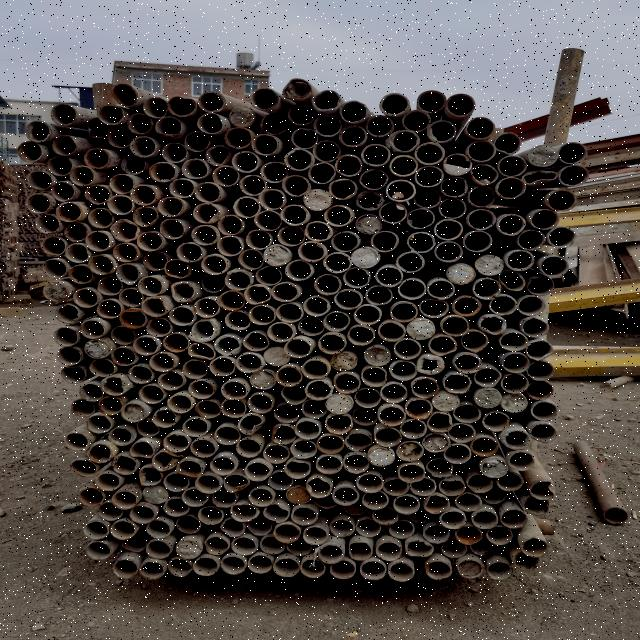pipe: (446, 94, 476, 118), (466, 116, 496, 140), (380, 92, 410, 116), (414, 142, 444, 166), (302, 188, 332, 212), (434, 240, 463, 264), (334, 154, 364, 177), (323, 204, 353, 227), (276, 224, 306, 247), (389, 154, 418, 177), (304, 379, 333, 402), (310, 89, 340, 111), (250, 88, 280, 110), (559, 165, 589, 187), (402, 110, 432, 132), (364, 115, 394, 137), (529, 208, 559, 230), (360, 144, 390, 166), (337, 126, 367, 148), (474, 254, 504, 276), (396, 251, 426, 273), (446, 263, 476, 285), (330, 230, 360, 252), (322, 252, 352, 274), (332, 288, 362, 310), (254, 264, 284, 286), (528, 144, 556, 167), (498, 213, 526, 236), (282, 174, 310, 197), (556, 143, 588, 163), (546, 190, 578, 210), (418, 298, 450, 318), (282, 78, 311, 100), (390, 130, 419, 152), (434, 218, 463, 240), (406, 231, 435, 253), (397, 278, 426, 300), (375, 266, 404, 288), (96, 104, 125, 126), (496, 177, 526, 198), (469, 163, 499, 184), (414, 166, 444, 187), (452, 296, 482, 317), (405, 319, 435, 340), (300, 358, 330, 379), (262, 345, 292, 366), (314, 140, 341, 163), (205, 144, 232, 167), (190, 319, 217, 342), (494, 132, 522, 154), (467, 140, 495, 162), (444, 154, 472, 176), (468, 186, 496, 208), (313, 115, 341, 137), (386, 179, 414, 201), (406, 208, 434, 230), (473, 278, 501, 300), (521, 316, 549, 338), (396, 440, 424, 462), (286, 148, 314, 170), (378, 202, 406, 224), (232, 150, 260, 172), (238, 174, 266, 196), (232, 196, 260, 218), (370, 230, 398, 252), (352, 246, 380, 268), (254, 209, 282, 231), (342, 267, 370, 289), (245, 228, 273, 250), (263, 244, 291, 266), (314, 274, 342, 296), (215, 235, 243, 257), (360, 366, 388, 388), (106, 127, 134, 149), (156, 196, 184, 218), (107, 194, 135, 216), (110, 220, 138, 242), (463, 231, 492, 252), (250, 134, 279, 155), (502, 352, 532, 372), (296, 241, 326, 261), (328, 352, 358, 372), (156, 370, 186, 390), (308, 162, 334, 185), (341, 100, 368, 122), (461, 331, 488, 353), (348, 324, 375, 346), (217, 290, 244, 312), (428, 120, 456, 141), (288, 104, 316, 125), (489, 294, 517, 315), (393, 338, 421, 359), (404, 398, 432, 419), (328, 178, 356, 199), (212, 165, 240, 186), (380, 383, 408, 404), (267, 322, 295, 343), (274, 366, 302, 387), (439, 176, 468, 196), (359, 170, 388, 190), (530, 401, 559, 421), (473, 388, 502, 408), (432, 392, 461, 412), (418, 90, 444, 112), (549, 226, 575, 248), (498, 270, 524, 292), (479, 314, 505, 336), (286, 259, 312, 281), (238, 248, 264, 270), (306, 476, 332, 498), (25, 120, 51, 142), (51, 134, 77, 156), (126, 113, 152, 135), (130, 136, 156, 158), (162, 142, 188, 164), (159, 218, 185, 240), (501, 373, 528, 394), (355, 214, 382, 235), (303, 295, 330, 316), (498, 156, 526, 176), (468, 209, 496, 229), (260, 114, 288, 134), (414, 188, 442, 208), (540, 256, 568, 276), (389, 302, 417, 322), (428, 336, 456, 356), (526, 340, 554, 360), (411, 378, 439, 398), (443, 374, 471, 394), (473, 368, 501, 388), (526, 380, 554, 400), (500, 392, 528, 412), (530, 423, 558, 443), (482, 412, 510, 432), (502, 430, 530, 450), (453, 404, 481, 424), (470, 437, 498, 457), (479, 458, 507, 478), (443, 444, 471, 464), (422, 432, 450, 452), (466, 474, 494, 494), (260, 162, 288, 182), (258, 190, 286, 210), (282, 205, 310, 225), (304, 222, 332, 242), (193, 204, 221, 224), (354, 304, 382, 324), (270, 282, 298, 302), (243, 284, 271, 304), (192, 298, 220, 318), (247, 305, 275, 325), (276, 303, 304, 323), (284, 338, 312, 358), (332, 373, 360, 393), (214, 336, 242, 356), (248, 370, 276, 390), (374, 427, 402, 447), (325, 394, 353, 414), (220, 380, 248, 400), (246, 394, 274, 414), (280, 385, 308, 405), (344, 432, 372, 452), (220, 398, 248, 418), (315, 455, 343, 475), (262, 444, 290, 464), (210, 456, 238, 476), (244, 462, 272, 482), (194, 474, 222, 494), (196, 506, 224, 526), (168, 96, 196, 116), (148, 162, 176, 182), (83, 184, 111, 204), (54, 202, 82, 222), (84, 339, 112, 359), (88, 358, 116, 378), (187, 380, 215, 400), (190, 438, 218, 458), (111, 454, 139, 474), (180, 488, 208, 508), (144, 519, 172, 539), (142, 96, 167, 118), (508, 250, 534, 271), (228, 106, 254, 127), (196, 113, 222, 134), (378, 321, 404, 342), (192, 225, 218, 246), (318, 333, 344, 354), (343, 452, 369, 473), (111, 84, 137, 105), (50, 104, 76, 125), (16, 141, 42, 162), (132, 206, 158, 227), (291, 128, 318, 148), (439, 198, 466, 218), (441, 316, 468, 336), (390, 360, 417, 380), (425, 560, 452, 580), (198, 92, 225, 112), (224, 128, 251, 148), (193, 182, 220, 202), (235, 353, 262, 373), (301, 398, 328, 418), (325, 414, 352, 434), (332, 486, 359, 506), (273, 524, 300, 544), (155, 116, 182, 136), (83, 148, 110, 168), (86, 208, 113, 228), (88, 255, 115, 275), (67, 264, 94, 284), (168, 306, 195, 326), (162, 332, 189, 352), (111, 346, 138, 366), (163, 472, 190, 492), (163, 498, 190, 518), (397, 463, 425, 482), (480, 486, 508, 505), (408, 477, 436, 496), (392, 495, 420, 514), (438, 511, 466, 530), (96, 276, 124, 295), (82, 521, 110, 540), (86, 116, 110, 138), (427, 412, 452, 433), (153, 452, 182, 470), (519, 230, 545, 250), (528, 276, 554, 296), (518, 296, 544, 316), (428, 280, 454, 300), (527, 360, 553, 380), (400, 419, 426, 439), (448, 423, 474, 443), (508, 451, 534, 471), (456, 492, 482, 512), (522, 538, 548, 558), (514, 552, 540, 572), (366, 285, 392, 305), (218, 215, 244, 235), (202, 254, 228, 274), (224, 270, 250, 290), (298, 316, 324, 336), (208, 356, 234, 376), (355, 388, 381, 408), (368, 447, 394, 467), (352, 406, 378, 426), (274, 404, 300, 424), (295, 420, 321, 440), (214, 426, 240, 446), (285, 460, 311, 480), (357, 473, 383, 493), (362, 490, 388, 510), (360, 560, 386, 580), (262, 504, 288, 524), (318, 544, 344, 564), (302, 526, 328, 546), (274, 558, 300, 578), (220, 518, 246, 538), (220, 556, 246, 576), (192, 556, 218, 576), (184, 132, 210, 152), (182, 159, 208, 179), (46, 156, 72, 176), (108, 174, 134, 194), (130, 185, 156, 205), (84, 231, 110, 251), (136, 231, 162, 251), (176, 242, 202, 262), (112, 242, 138, 262), (64, 242, 90, 262), (42, 258, 68, 278), (42, 281, 68, 301), (72, 288, 98, 308), (54, 304, 80, 324), (137, 276, 163, 296), (96, 299, 122, 319), (120, 309, 146, 329), (149, 352, 175, 372), (182, 359, 208, 379), (138, 384, 164, 404), (86, 414, 112, 434), (109, 427, 135, 447), (86, 443, 112, 463), (163, 432, 189, 452), (130, 504, 156, 524), (110, 520, 136, 540), (223, 473, 250, 492), (175, 540, 202, 559), (500, 334, 528, 352), (522, 497, 550, 515), (362, 346, 390, 364), (238, 414, 262, 435), (272, 424, 296, 445), (312, 491, 340, 509), (230, 504, 258, 522), (497, 472, 522, 492), (427, 458, 452, 478), (407, 504, 432, 524), (388, 520, 413, 540), (358, 190, 383, 210), (324, 312, 349, 332), (380, 406, 405, 426), (331, 560, 356, 580), (248, 554, 273, 574), (121, 154, 146, 174), (27, 170, 52, 190), (70, 166, 95, 186), (26, 193, 51, 213), (164, 259, 189, 279), (143, 251, 168, 271), (133, 336, 158, 356), (138, 466, 163, 486), (501, 509, 527, 528), (423, 495, 449, 514), (442, 539, 468, 558), (376, 541, 402, 560), (225, 312, 251, 331), (242, 332, 268, 351), (142, 485, 168, 504), (98, 502, 124, 521), (454, 354, 481, 372), (486, 526, 513, 544), (200, 274, 227, 292), (145, 318, 172, 336), (188, 342, 215, 360), (78, 320, 105, 338), (470, 536, 494, 556), (390, 562, 414, 582), (348, 541, 372, 561), (212, 488, 236, 508), (260, 535, 284, 555), (248, 516, 272, 536), (51, 182, 75, 202), (36, 214, 60, 234), (64, 222, 88, 242), (116, 264, 140, 284), (170, 282, 194, 302), (142, 297, 166, 317), (54, 328, 78, 348), (168, 394, 192, 414), (168, 558, 192, 578), (522, 170, 556, 184), (268, 472, 293, 491), (121, 403, 146, 422), (112, 490, 137, 509), (382, 478, 408, 496), (456, 526, 482, 544), (236, 439, 262, 457), (372, 508, 398, 526), (286, 486, 312, 504), (290, 508, 316, 526), (286, 537, 312, 555), (300, 560, 326, 578), (232, 538, 258, 556), (128, 366, 154, 384), (182, 418, 208, 436), (64, 432, 90, 450), (78, 488, 104, 506), (176, 460, 202, 478), (145, 540, 171, 558), (112, 560, 138, 578), (121, 534, 147, 552), (602, 507, 628, 525), (102, 376, 125, 396), (290, 441, 317, 458), (530, 481, 554, 500), (42, 237, 66, 256), (119, 288, 143, 307), (111, 326, 135, 345), (424, 526, 449, 544), (487, 562, 512, 580), (457, 560, 482, 578), (98, 398, 123, 416), (406, 541, 434, 557), (194, 401, 220, 418), (70, 459, 96, 476), (473, 512, 497, 530), (318, 435, 342, 453), (356, 519, 380, 537), (249, 488, 273, 506), (330, 519, 354, 537), (204, 537, 228, 555), (58, 347, 82, 365), (61, 366, 85, 384), (80, 384, 104, 402), (96, 473, 120, 491), (136, 419, 160, 437), (140, 562, 164, 580), (87, 542, 111, 560), (153, 409, 175, 428), (440, 480, 466, 496), (72, 399, 95, 417), (177, 516, 200, 534), (344, 497, 366, 515), (130, 442, 154, 458), (418, 357, 442, 372)
